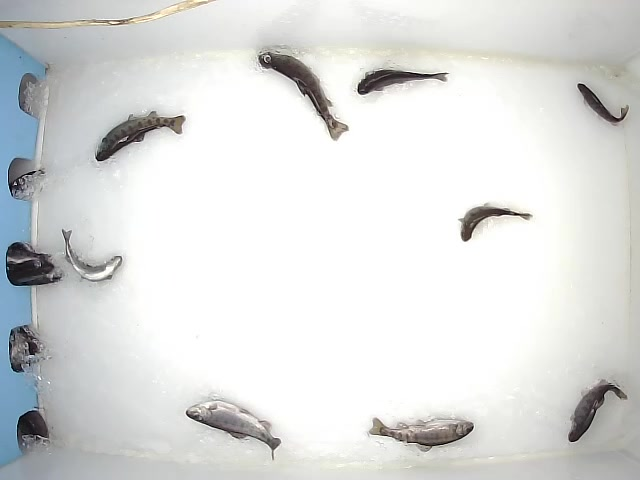fish: (256, 50, 351, 143), (185, 392, 282, 462), (92, 108, 186, 163), (565, 378, 628, 443), (366, 416, 476, 453), (58, 229, 125, 283), (456, 200, 534, 242), (355, 67, 448, 97), (576, 82, 631, 126)
